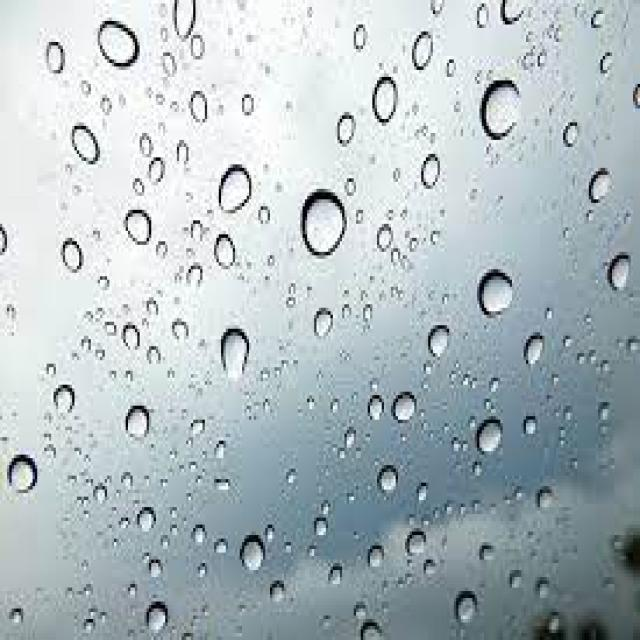raindrop: (298, 180, 351, 268), (477, 71, 528, 148), (472, 260, 520, 324), (214, 154, 258, 220), (216, 317, 252, 388), (96, 16, 142, 71), (469, 408, 511, 462), (68, 114, 104, 173), (584, 159, 622, 214), (370, 67, 402, 131), (389, 382, 426, 434), (234, 528, 274, 576), (6, 448, 41, 502), (121, 201, 155, 255), (407, 23, 438, 79), (209, 230, 242, 278), (137, 596, 173, 640), (605, 240, 634, 294), (124, 396, 153, 449), (310, 302, 340, 353), (48, 378, 82, 421), (419, 144, 446, 196), (58, 233, 88, 276), (426, 318, 454, 364), (450, 588, 483, 626), (376, 460, 402, 503), (402, 524, 429, 558)
